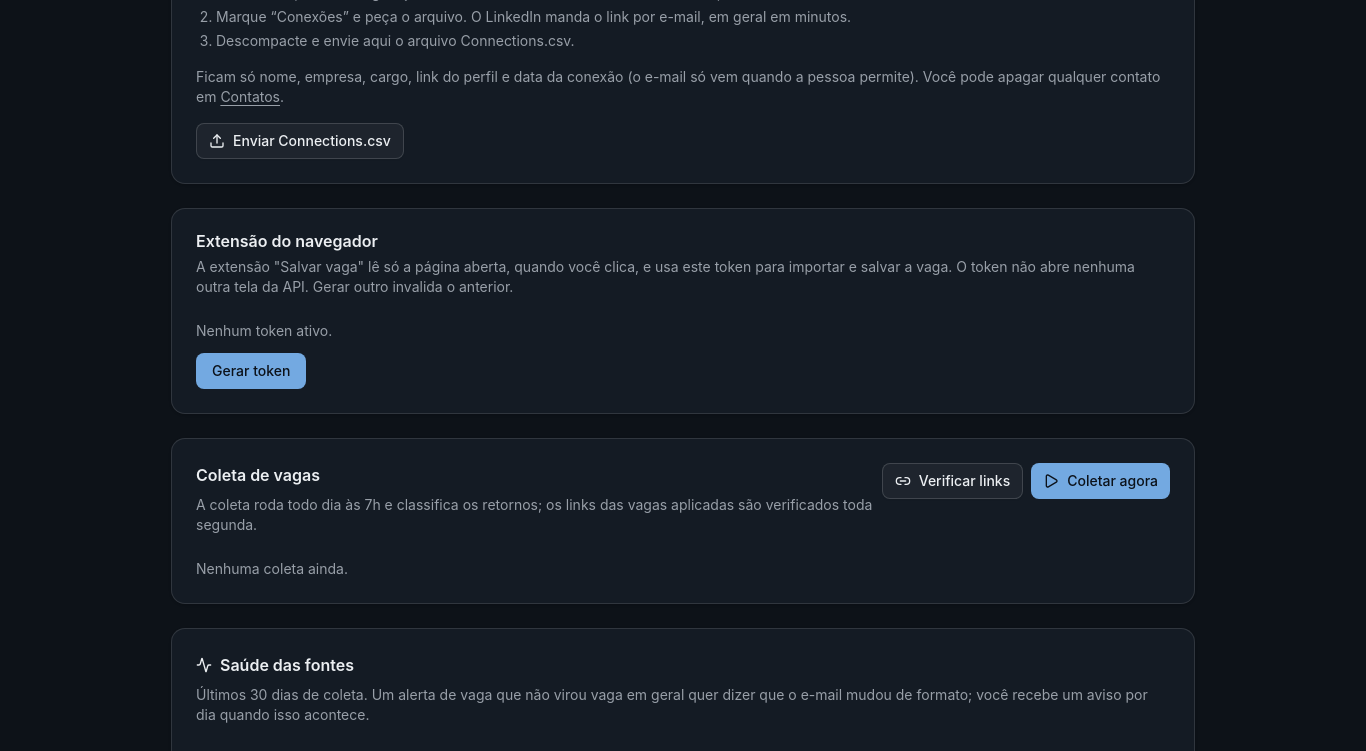
it: token da extensão › gera o token, mostra uma vez e depois só o final
(page scrolled)
Click the button "Gerar token" at [251, 371], box [196,353,306,389]
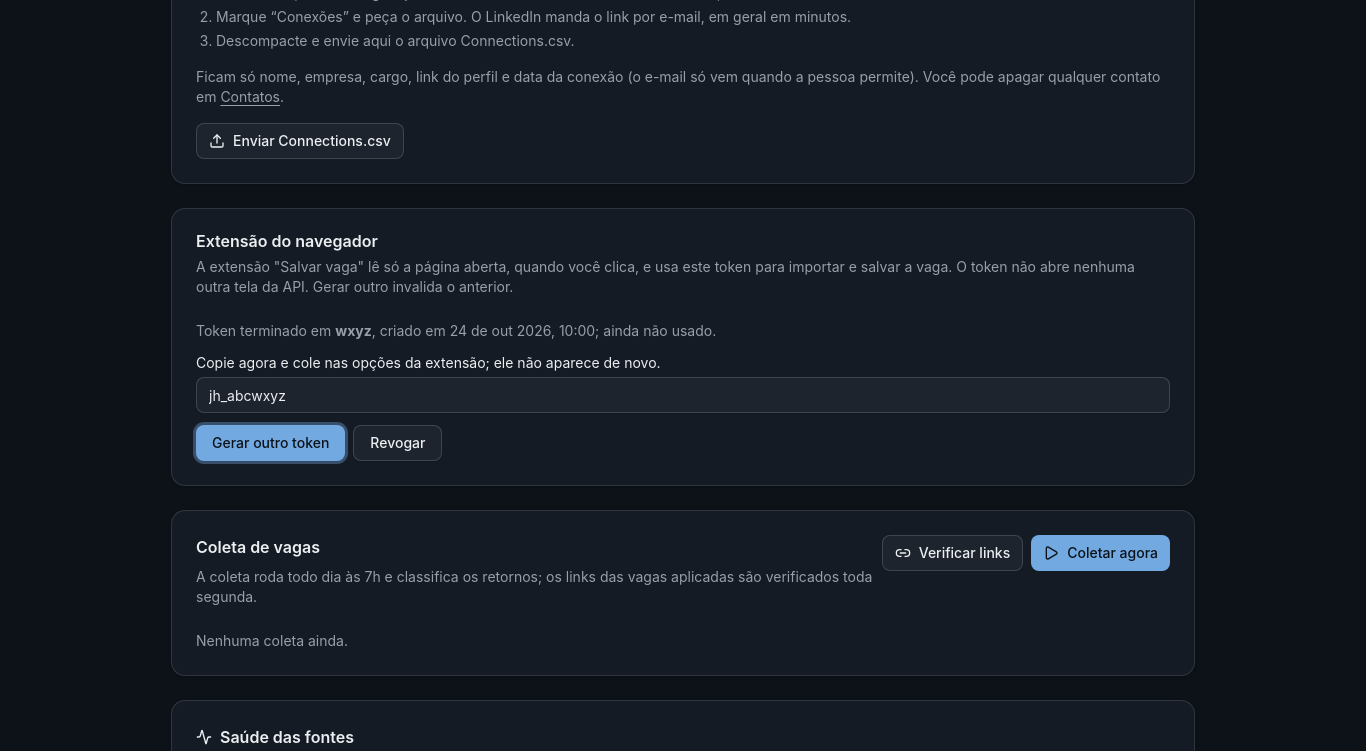
Check: the field named "Token gerado" holds "jh_abcwxyz", box [196,377,1170,413]
Check: the text "wxyz" is shown, box [335,322,372,339]
